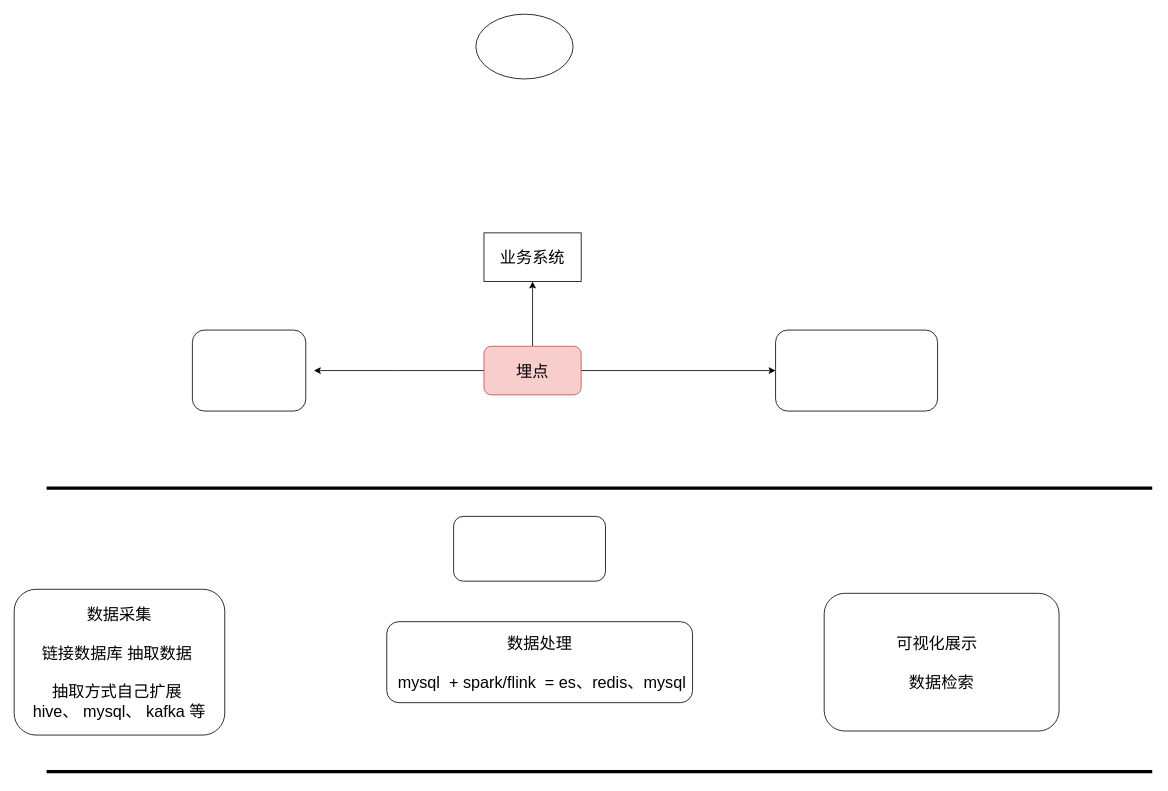
Image size: 1168x791. Some labels were removed from this diagram. The shapes that lost their labels are listed below. From the top down, each one's centre as x and y in pixels, then its label:
At (249,370): "谷粒商城 数据来源".
At (856,370): "模拟接口调用 制造测试数据".
At (529,548): "平台开发".
